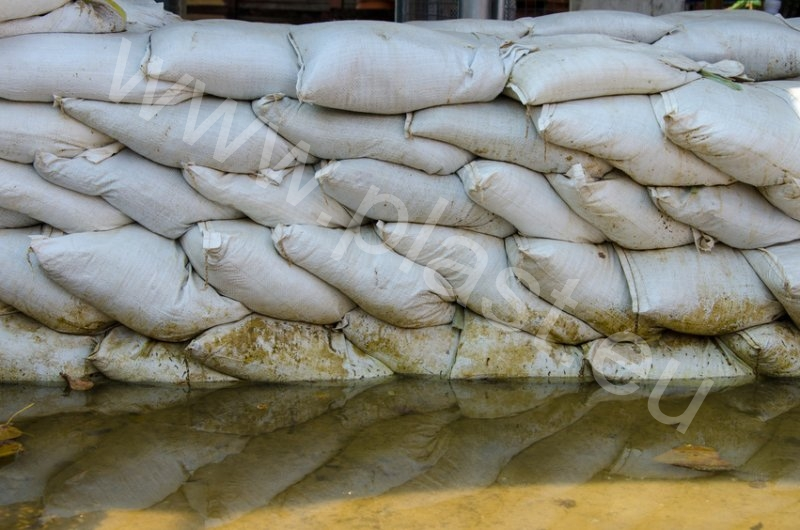sandbag: (376, 224, 599, 346), (29, 228, 248, 339), (289, 19, 511, 115), (655, 79, 800, 215), (274, 225, 456, 329), (55, 100, 311, 173), (530, 99, 736, 188), (38, 150, 238, 238), (504, 35, 748, 107), (252, 96, 472, 174), (181, 223, 350, 324), (406, 100, 610, 177), (612, 249, 783, 336), (316, 160, 511, 236), (507, 236, 648, 336), (0, 34, 193, 103), (188, 316, 388, 381), (547, 167, 696, 249), (461, 160, 605, 244), (0, 226, 112, 333), (150, 21, 299, 100), (187, 166, 361, 228), (655, 10, 800, 81), (650, 183, 800, 249), (0, 161, 132, 232), (451, 315, 586, 380), (90, 329, 234, 386), (342, 314, 464, 378), (587, 339, 755, 382), (0, 102, 112, 164), (0, 316, 98, 385), (521, 10, 674, 42), (742, 243, 800, 324), (725, 324, 800, 378), (413, 19, 529, 40)
